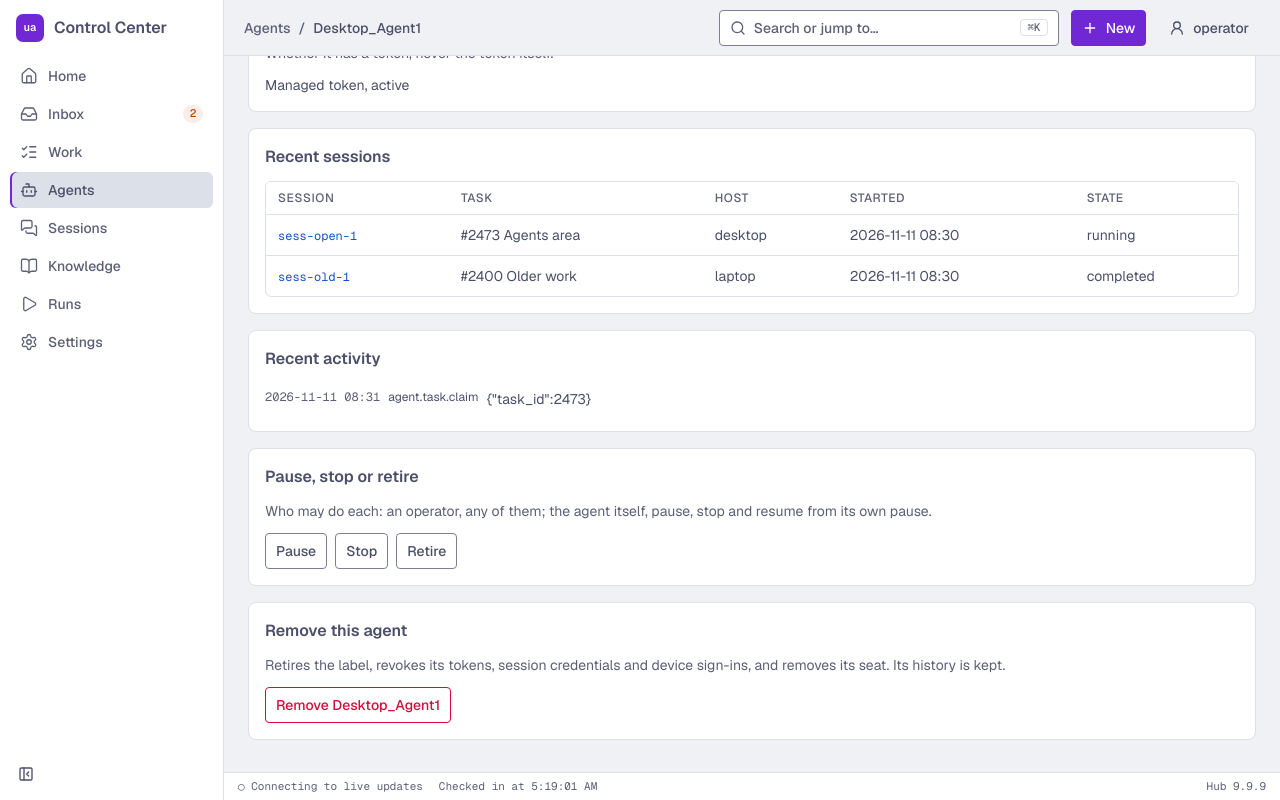
Test: agents: the agent page › a 409 claims_held is explained and the draft keeps the reason
The width and height of the screenshot is (1280, 800).
(page scrolled)
Click the button "Remove Desktop_Agent1" at (358, 705), box [265,687,451,723]
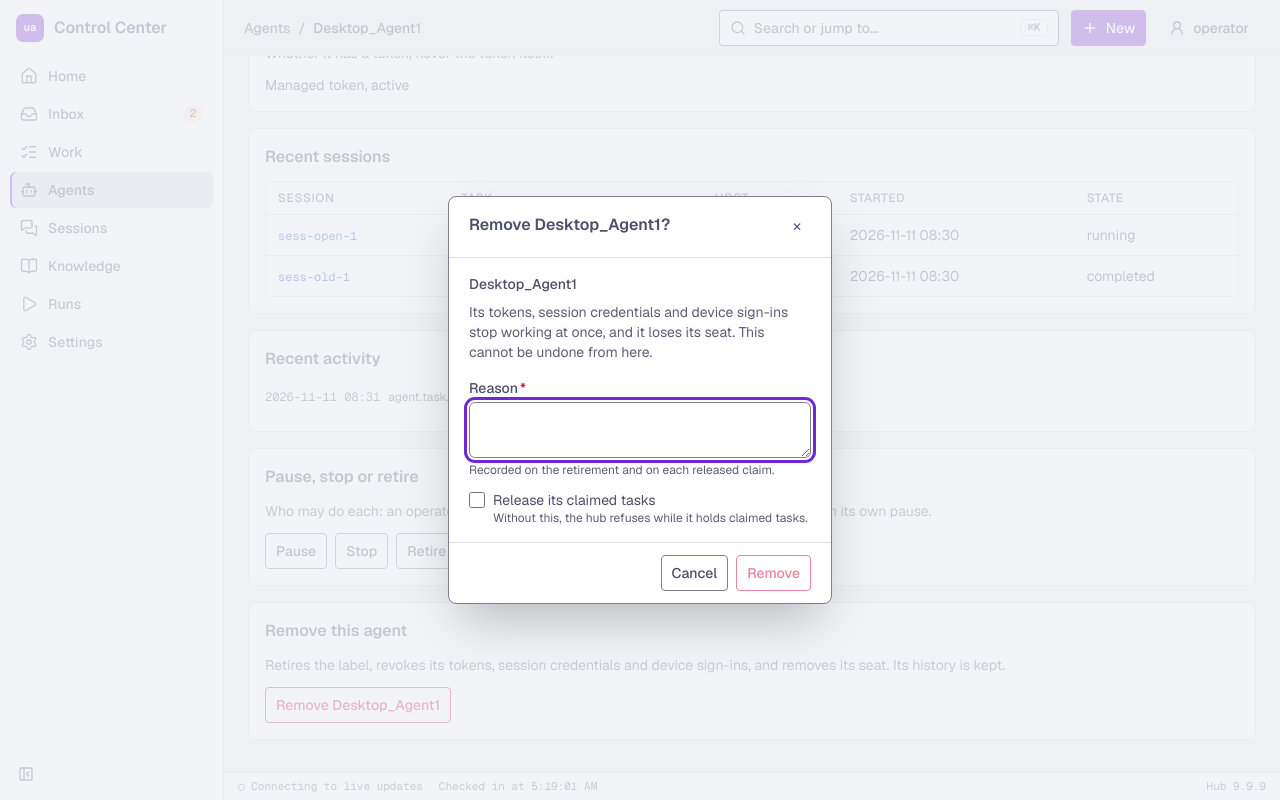
Type "done" into the text box labelled "Reason*" at (640, 430), box [469,402,811,458]
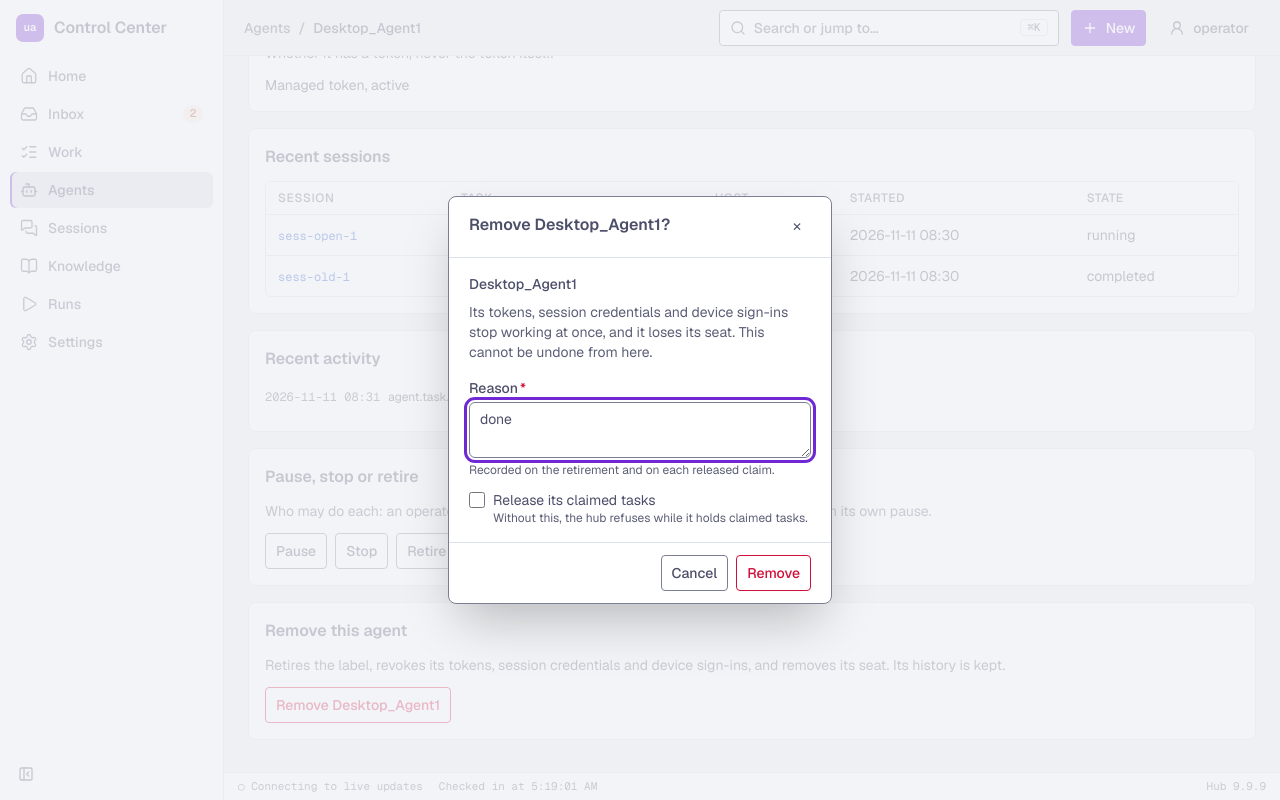
Click the button "Remove" at (774, 573), box [736,555,811,591]
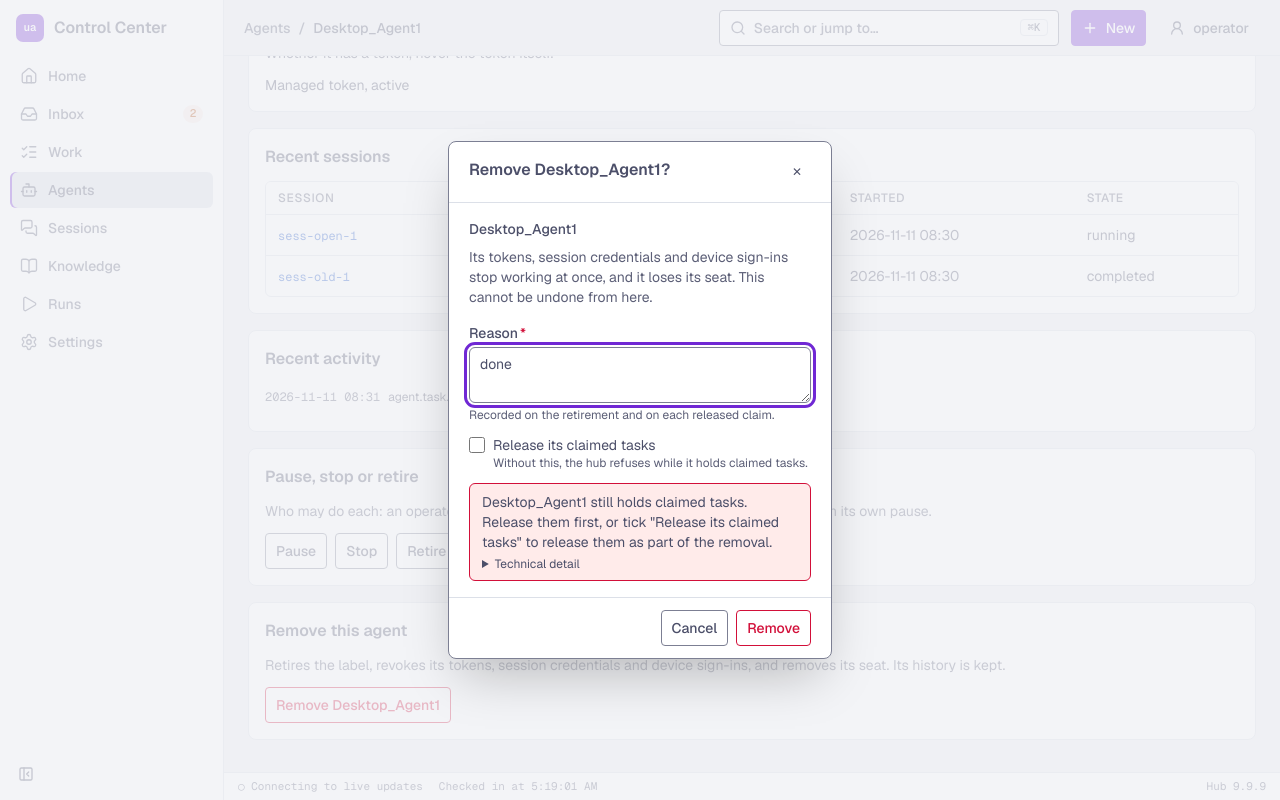
Expected: the text "still holds claimed tasks" is shown, [482,493,779,551]
